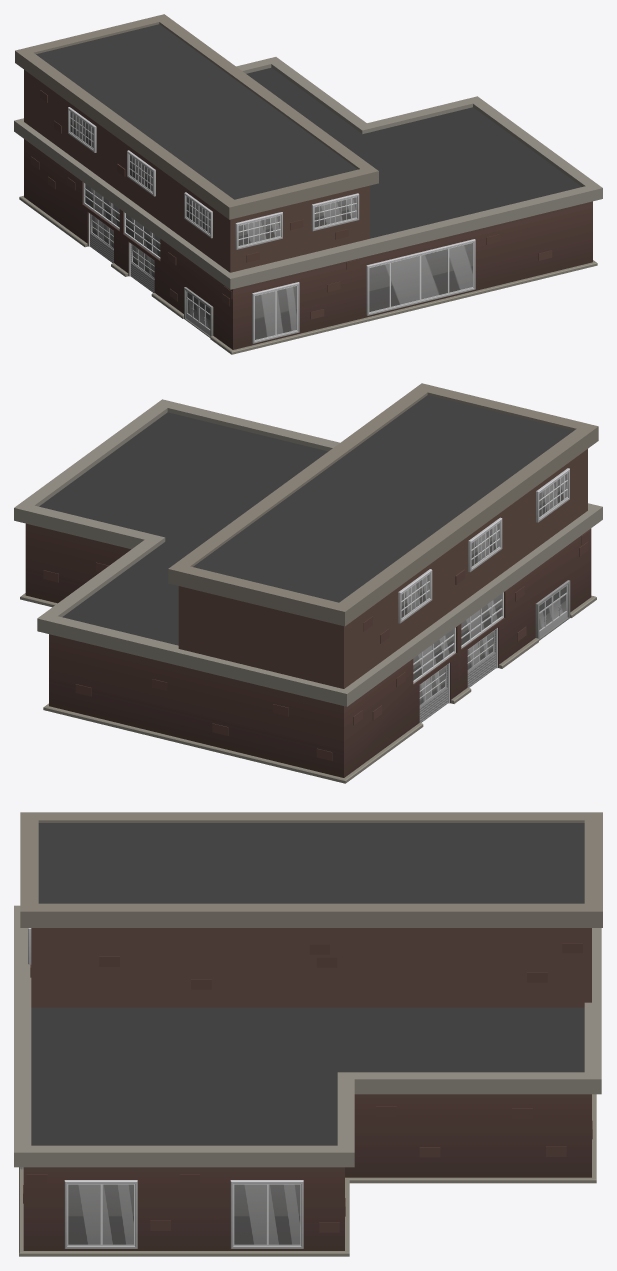
The model's file is Building_22_1_G.fbx.
The picture shows the model from 3 angles, top to bottom: view 1: azimuth 30°, elevation 25°; view 2: azimuth 150°, elevation 25°; view 3: azimuth 270°, elevation 25°; orthographic projection. The views are drawn at different scales.
Parts seen in each view (by area): view 1: Building_22_1_G; view 2: Building_22_1_G; view 3: Building_22_1_G.
Part boxes in pixels (left/top/right/bottom): Building_22_1_G: left=14, top=14, right=602, bottom=354; Building_22_1_G: left=14, top=383, right=602, bottom=783; Building_22_1_G: left=14, top=812, right=602, bottom=1256.
Size of the model in its own units: 3108 by 1175 by 3132.
